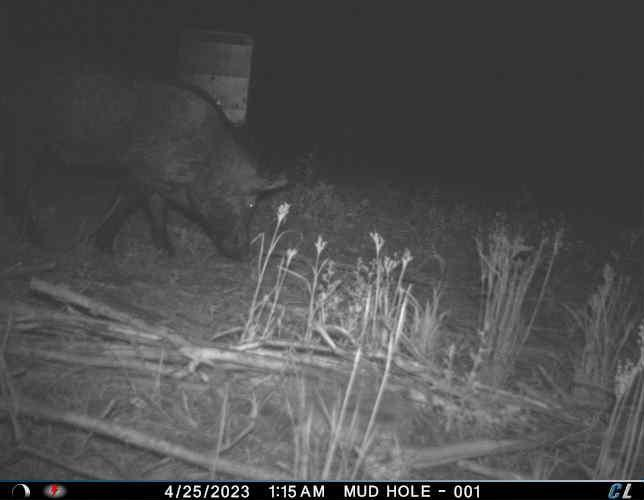Hog: (0, 54, 293, 270)
